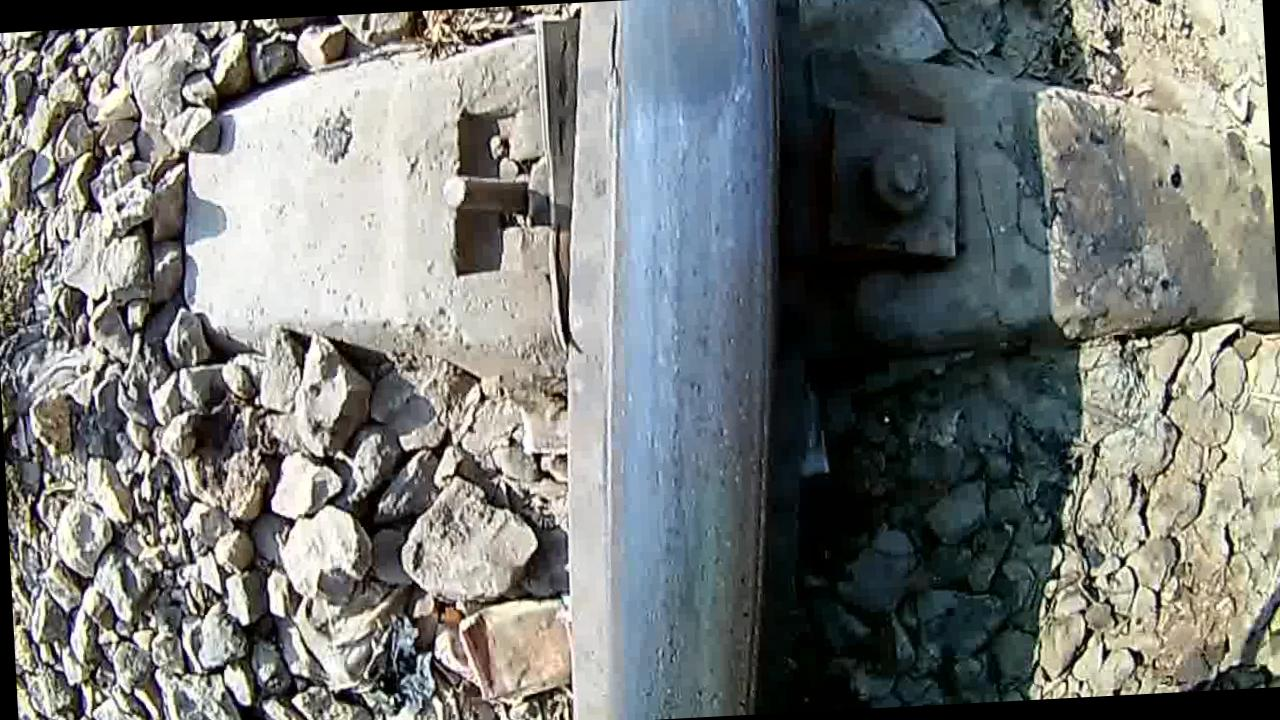bolt_missing: (591, 0, 784, 155)
